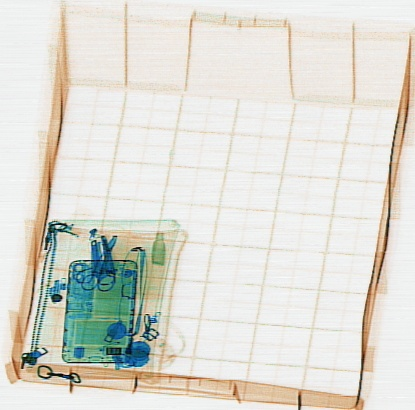scissors: (75, 238, 116, 293)
